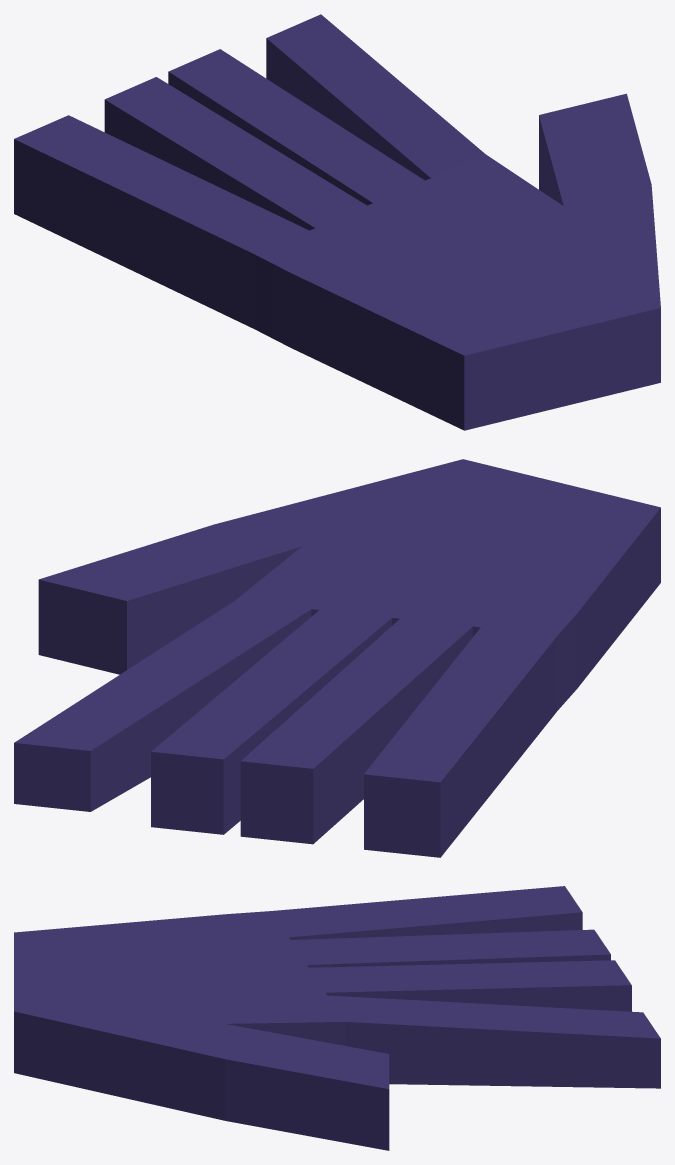
The model's file is puroto_paa.obj.
3 views of the same model, one above another, from view 1: azimuth 30°, elevation 25°; view 2: azimuth 150°, elevation 25°; view 3: azimuth 270°, elevation 25° (orthographic). The views are drawn at different scales.
Visible parts, largest first — view 1: puroto_paa_MDL; view 2: puroto_paa_MDL; view 3: puroto_paa_MDL.
Part boxes in pixels (bbox=[...]): puroto_paa_MDL: bbox=[14, 14, 660, 430]; puroto_paa_MDL: bbox=[14, 459, 660, 857]; puroto_paa_MDL: bbox=[14, 886, 660, 1150].
Size of the model in its own units: 7.07 by 1 by 9.51.
Materials: 1 (1 with a texture image).
